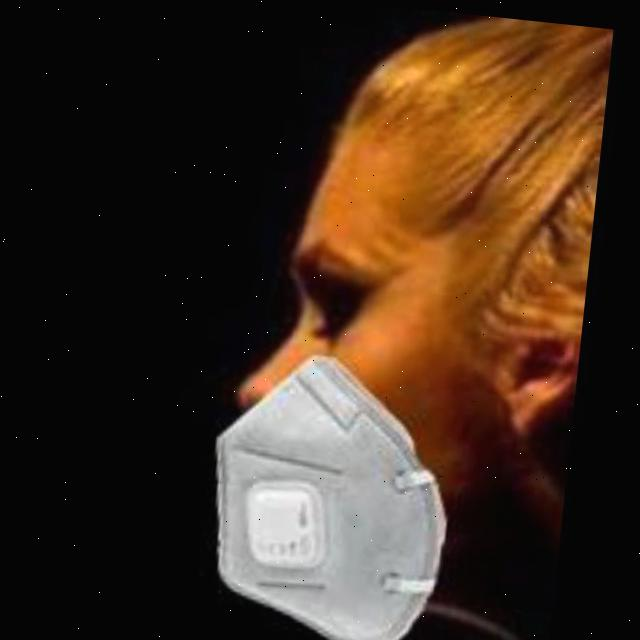suspicion: (157, 71, 574, 606)
